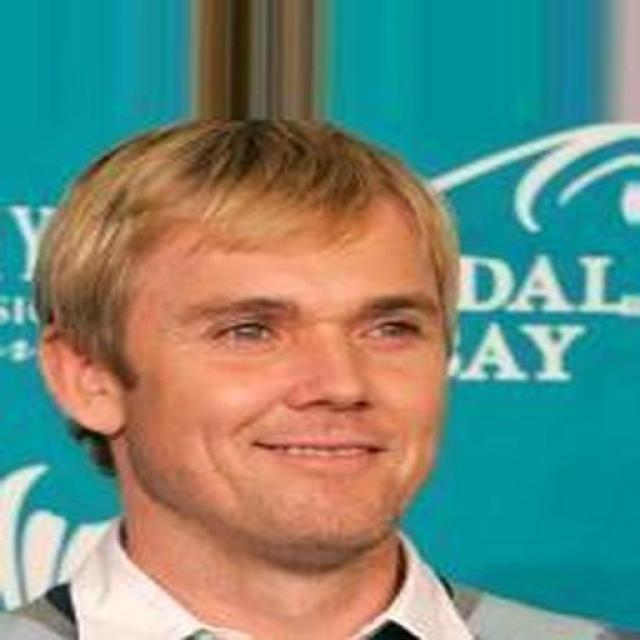bareface: (47, 150, 468, 578)
